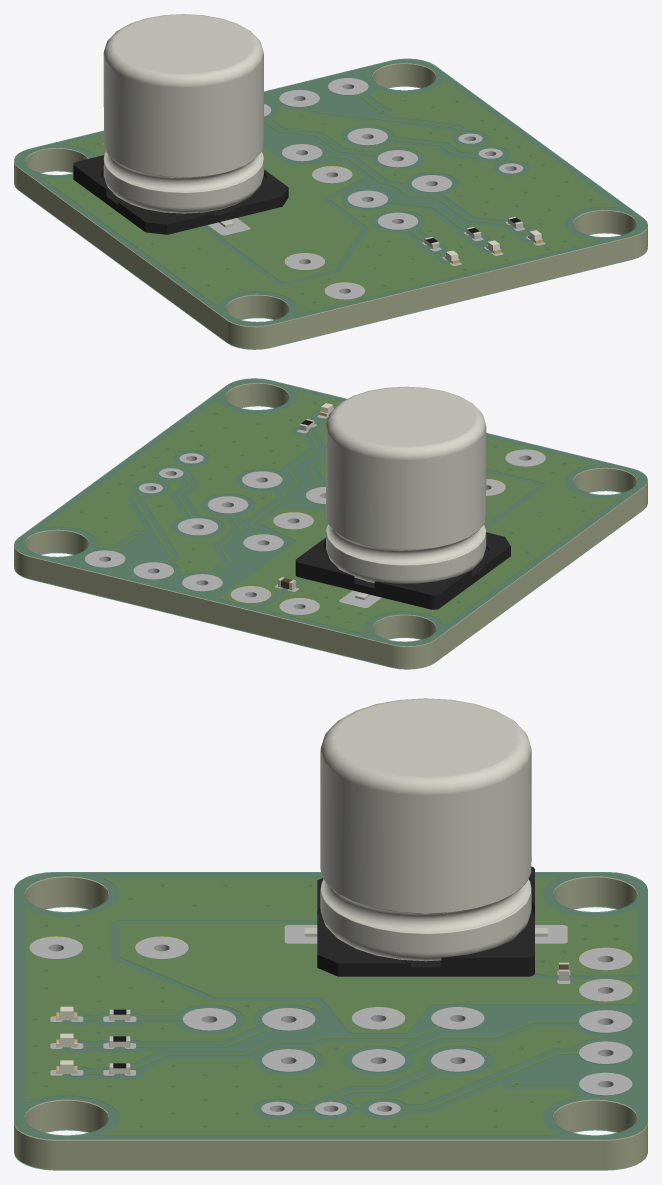
The picture shows the model from 3 angles, top to bottom: view 1: azimuth 30°, elevation 25°; view 2: azimuth 150°, elevation 25°; view 3: azimuth 270°, elevation 25°; orthographic projection. The views are drawn at different scales.
Parts seen in each view (by area): view 1: =>[0:1:1:9], =>[0:1:1:6], =>[0:1:1:11], C3, =>[0:1:1:7], =>[0:1:1:10]; view 2: =>[0:1:1:9], =>[0:1:1:11], C3, =>[0:1:1:6], =>[0:1:1:7], =>[0:1:1:10]; view 3: =>[0:1:1:9], =>[0:1:1:6], =>[0:1:1:11], C3, =>[0:1:1:7], =>[0:1:1:10].
Part boxes in pixels (x1,y1,x2,y2): =>[0:1:1:9]: (14, 58, 647, 326); =>[0:1:1:6]: (44, 81, 617, 313); =>[0:1:1:11]: (14, 60, 647, 348); C3: (73, 14, 288, 234); =>[0:1:1:7]: (208, 78, 545, 299); =>[0:1:1:10]: (14, 86, 647, 349); =>[0:1:1:9]: (14, 378, 647, 646); =>[0:1:1:11]: (14, 379, 647, 668); C3: (295, 386, 510, 609); =>[0:1:1:6]: (44, 391, 617, 633); =>[0:1:1:7]: (85, 415, 545, 614); =>[0:1:1:10]: (14, 405, 647, 669); =>[0:1:1:9]: (14, 872, 647, 1139); =>[0:1:1:6]: (25, 877, 636, 1135); =>[0:1:1:11]: (14, 873, 647, 1169); C3: (304, 698, 547, 976); =>[0:1:1:7]: (29, 925, 632, 1115); =>[0:1:1:10]: (14, 906, 647, 1170).
Size of the model in its own units: 0.03 by 0.0118 by 0.03.
